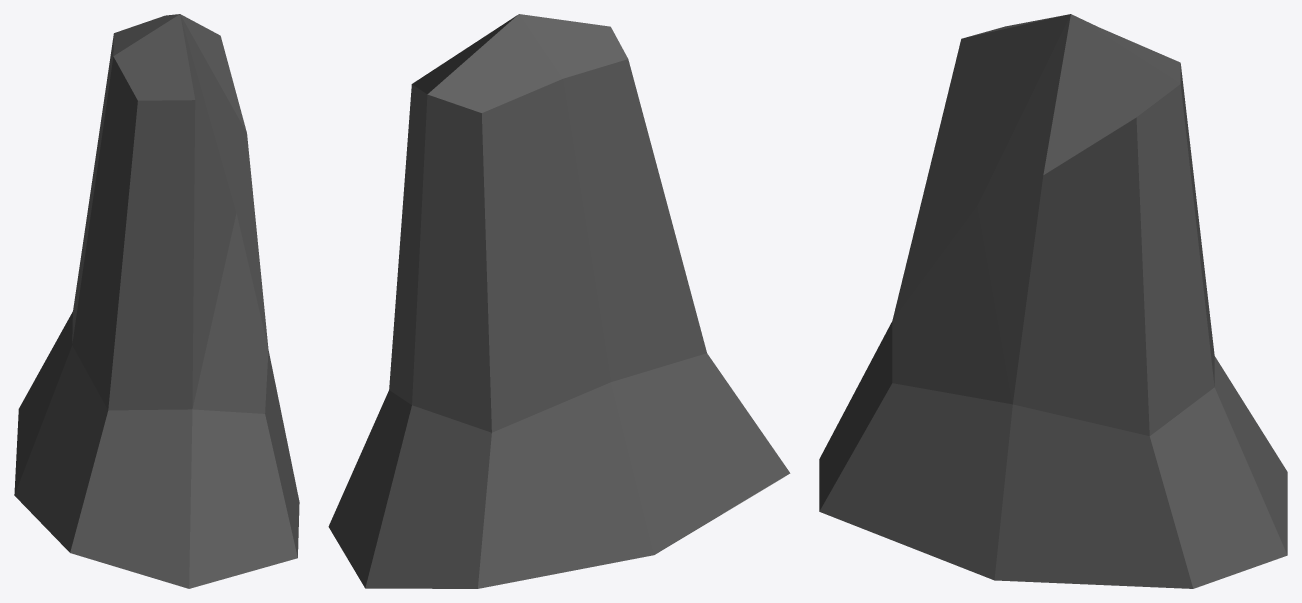
Rendered from LargeRock.fbx.
3 views of the same model, side by side, from view 1: azimuth 30°, elevation 25°; view 2: azimuth 150°, elevation 25°; view 3: azimuth 270°, elevation 25° (orthographic). The views are drawn at different scales.
Visible parts, largest first — view 1: LargeRock; view 2: LargeRock; view 3: LargeRock.
Boxes of the visible parts, x1,y1,x2,y2 form: LargeRock: [14, 14, 299, 588]; LargeRock: [328, 14, 790, 588]; LargeRock: [819, 14, 1287, 588].
Bounding box in the file's own units: 0.4869 × 0.7343 × 0.5969.
Materials: 1 (1 with a texture image).
